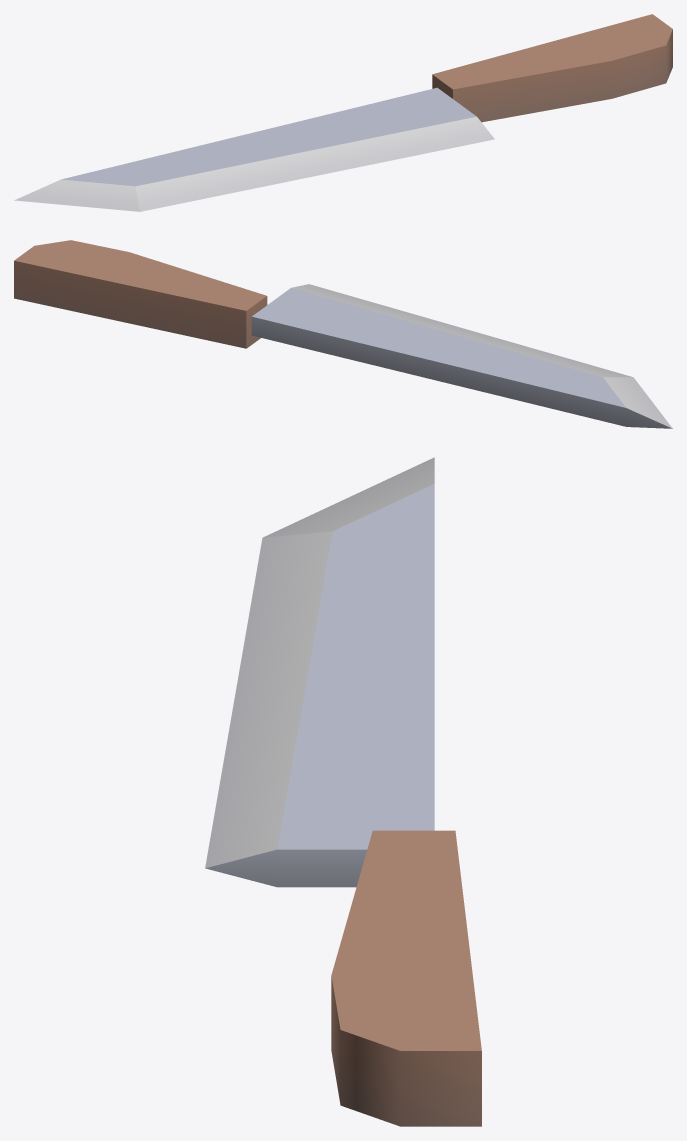
Rendered from cooking-knife.glb.
3 views of the same model, one above another, from view 1: azimuth 30°, elevation 25°; view 2: azimuth 150°, elevation 25°; view 3: azimuth 270°, elevation 25° (orthographic). The views are drawn at different scales.
Parts seen in each view (by area): view 1: cooking-knife; view 2: cooking-knife; view 3: cooking-knife.
Boxes of the visible parts, x1,y1,x2,y2 form: cooking-knife: (14,14,672,211); cooking-knife: (14,240,672,428); cooking-knife: (205,457,481,1126).
Size of the model in its own units: 0.7162 by 0.04 by 0.1327.
